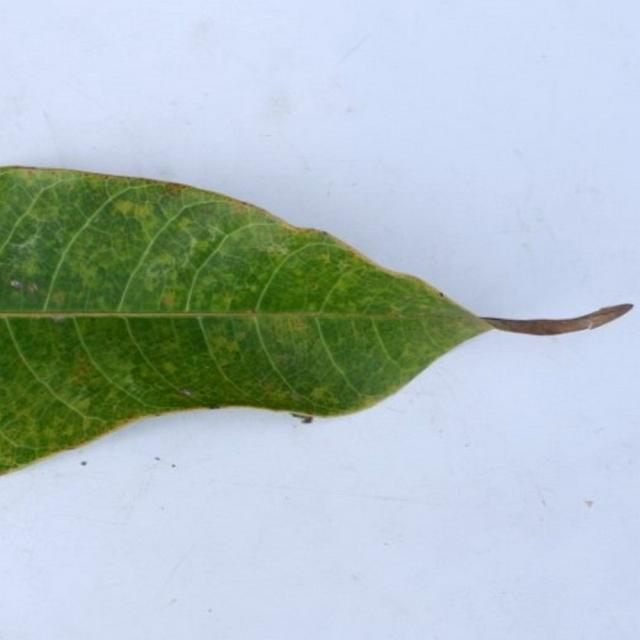Mango: (0, 167, 499, 473)
Powdery_Mildew: (141, 256, 182, 292), (151, 194, 196, 223), (335, 34, 372, 69), (6, 225, 46, 257), (298, 224, 347, 247), (206, 329, 241, 355), (112, 195, 138, 219), (18, 257, 41, 277), (65, 390, 91, 405), (94, 264, 110, 288), (152, 251, 175, 267), (258, 380, 281, 396), (288, 317, 310, 332), (74, 360, 92, 377), (266, 243, 288, 256), (50, 290, 67, 306), (191, 239, 210, 253), (163, 182, 185, 193), (219, 293, 235, 308), (161, 293, 178, 307), (310, 388, 329, 400), (75, 397, 91, 411), (387, 309, 405, 320), (318, 252, 333, 265), (400, 347, 414, 360), (288, 389, 304, 400), (162, 363, 177, 374), (121, 374, 135, 385), (27, 282, 39, 294), (178, 388, 194, 397), (52, 314, 66, 323), (10, 280, 22, 289), (25, 168, 37, 176), (284, 389, 295, 397), (249, 307, 259, 315), (320, 230, 329, 236), (241, 200, 249, 206), (438, 291, 444, 297)
